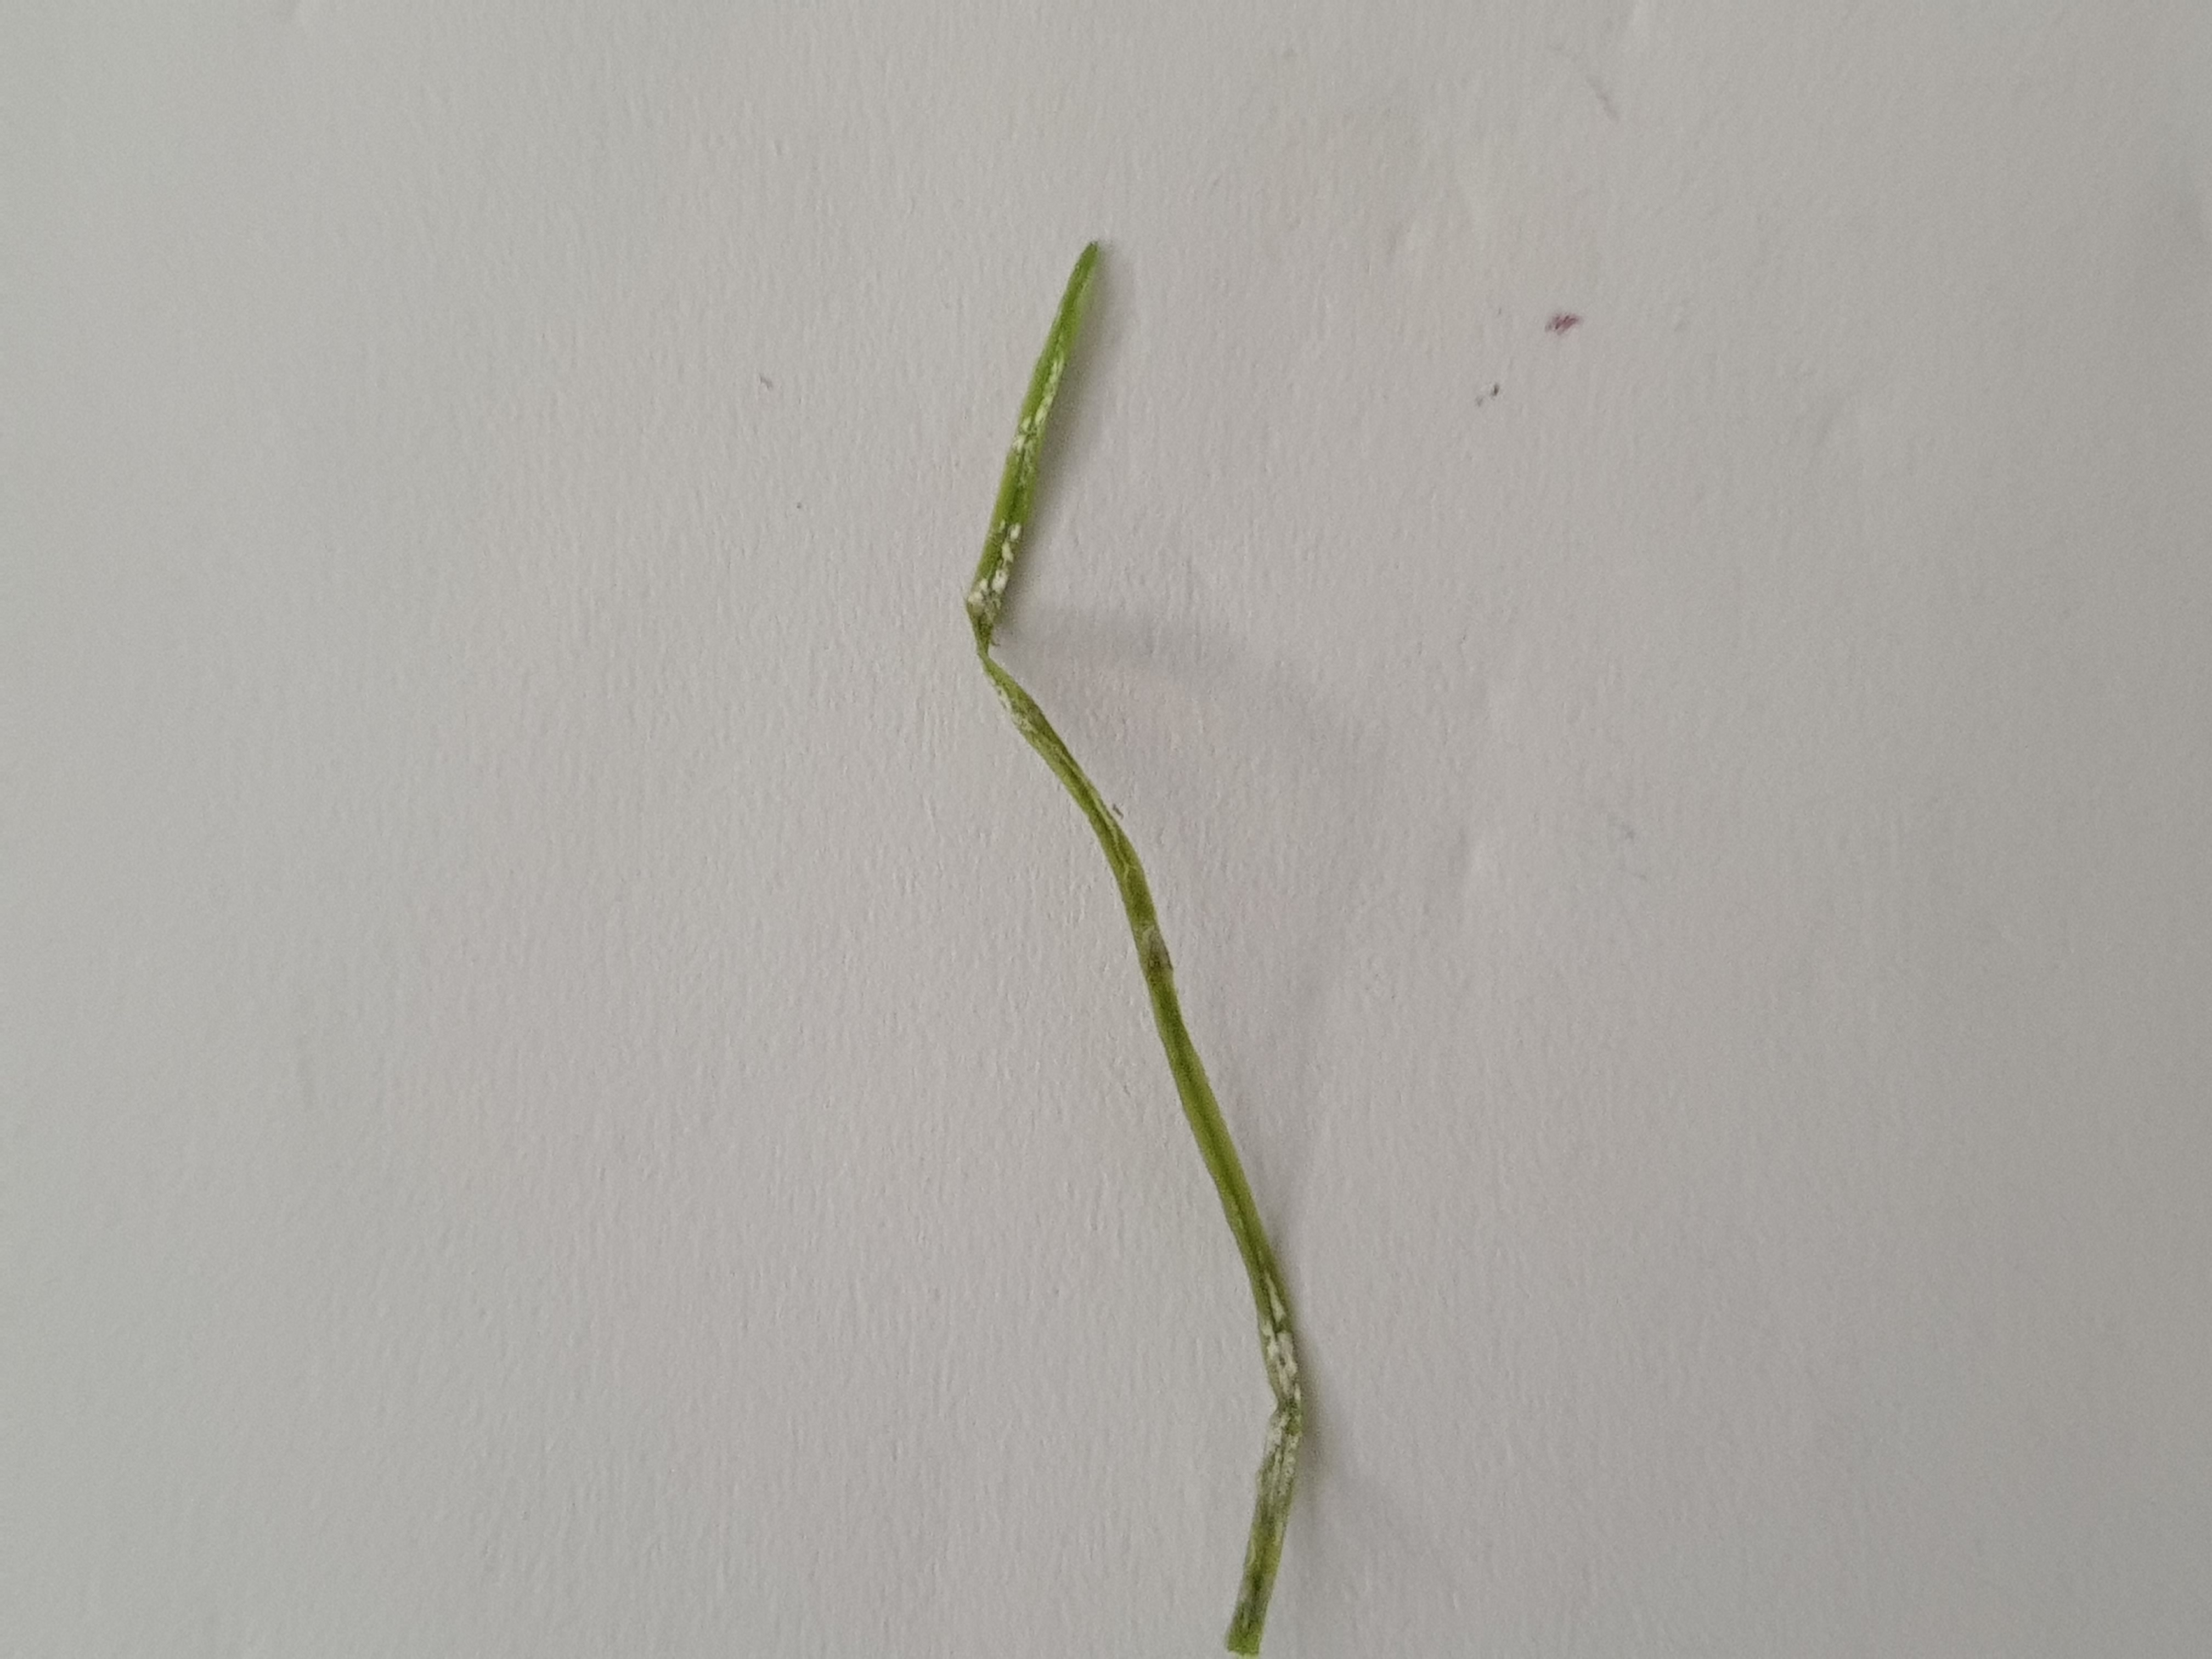thread: (934, 225, 1378, 1659)
